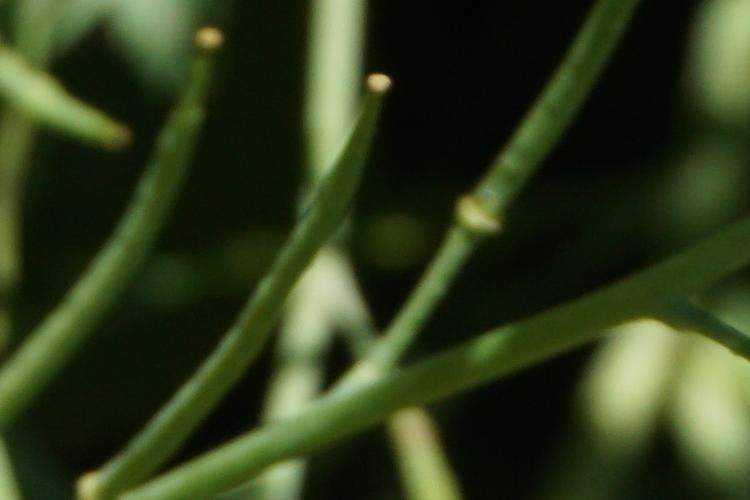pod: (90, 25, 234, 341), (244, 82, 418, 321), (17, 60, 144, 141)
